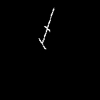double_crochet: (39, 9, 53, 48)
